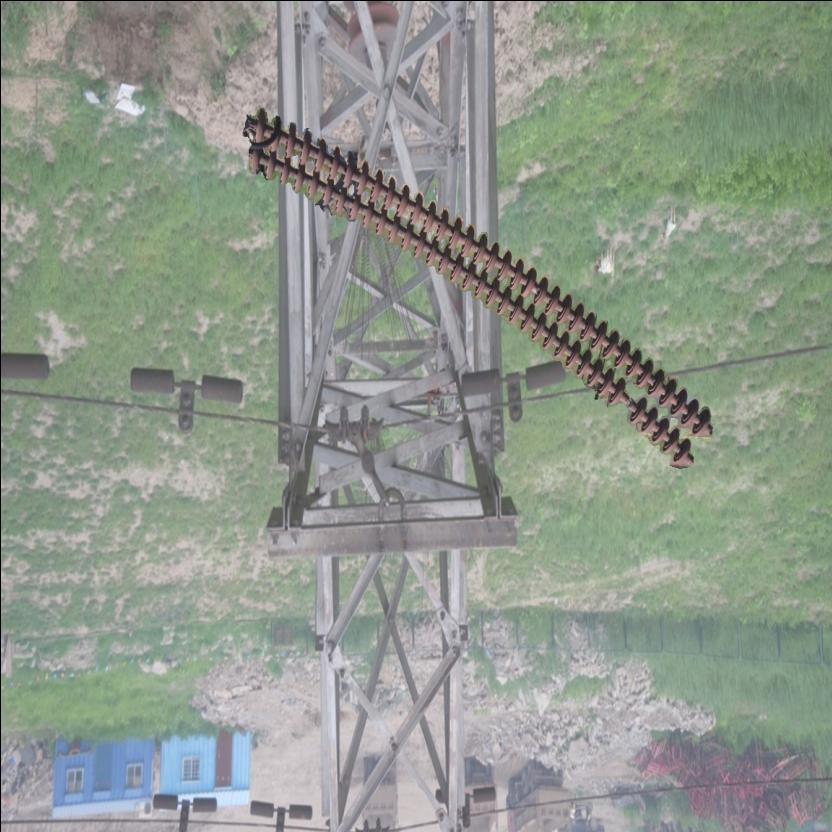defect: (606, 378, 652, 426)
